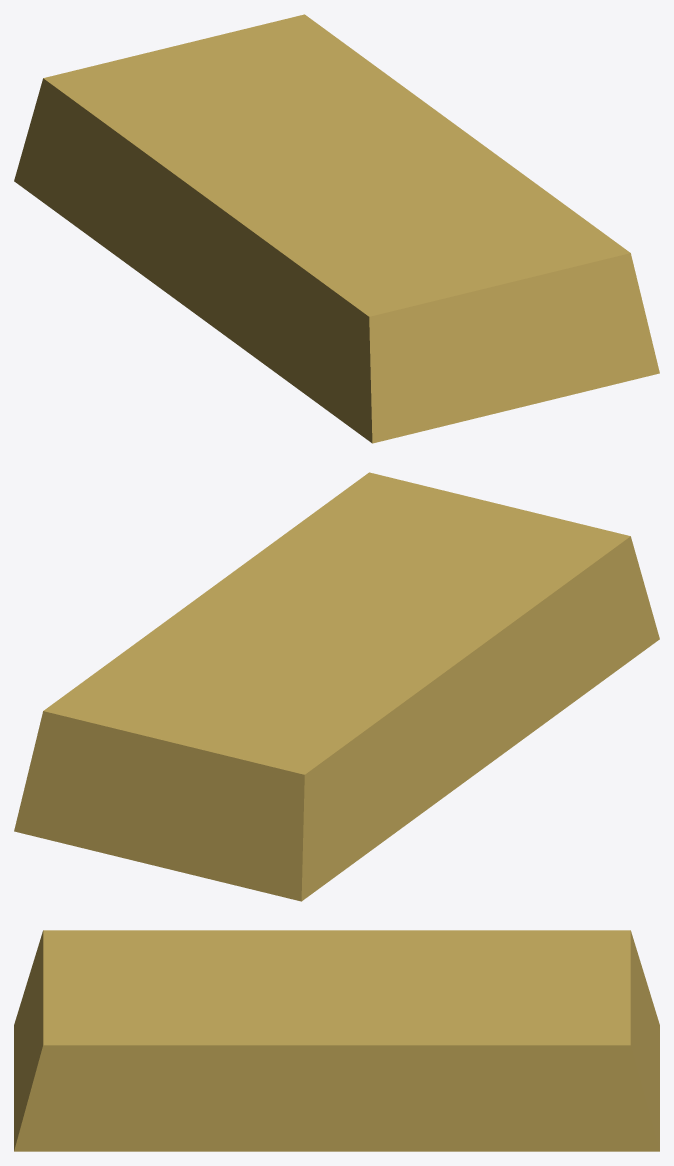
The model's file is orichalcum_ingot.fbx.
3 views of the same model, one above another, from view 1: azimuth 30°, elevation 25°; view 2: azimuth 150°, elevation 25°; view 3: azimuth 270°, elevation 25° (orthographic). The views are drawn at different scales.
Parts seen in each view (by area): view 1: iron_ingot.003; view 2: iron_ingot.003; view 3: iron_ingot.003.
Boxes of the visible parts, bbox=[...] form: iron_ingot.003: bbox=[14, 14, 659, 443]; iron_ingot.003: bbox=[14, 472, 659, 901]; iron_ingot.003: bbox=[14, 930, 659, 1151].
Size of the model in its own units: 28.01 by 10.4 by 60.47.
